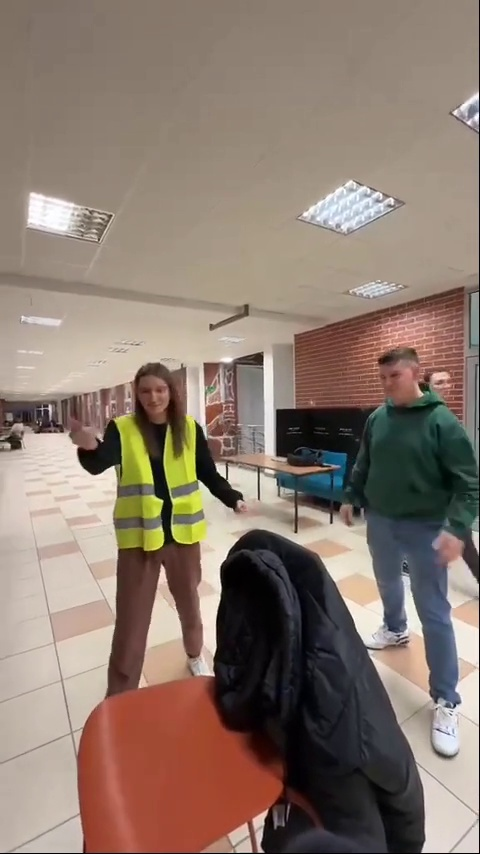no vest: (335, 356, 479, 765)
vest: (97, 357, 243, 688)
